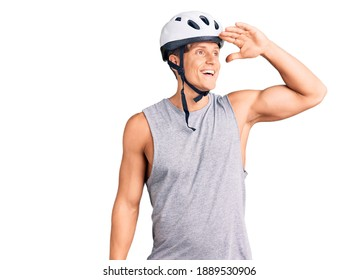helmet: (160, 10, 223, 91)
